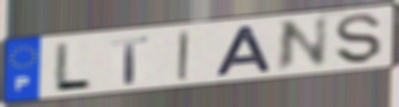A: (212, 23, 276, 79)
I: (176, 29, 194, 83)
L: (50, 40, 94, 91)
N: (273, 14, 332, 75)
S: (333, 12, 385, 66)
T: (110, 34, 152, 86)
